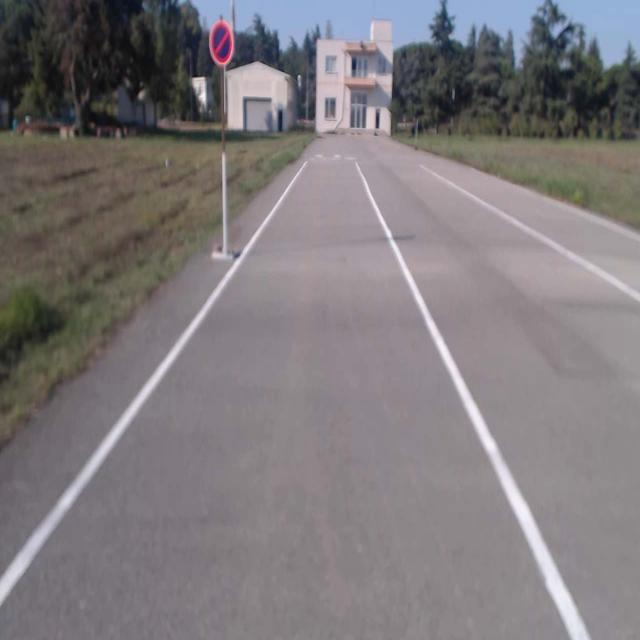parkyasak: (208, 19, 234, 65)
